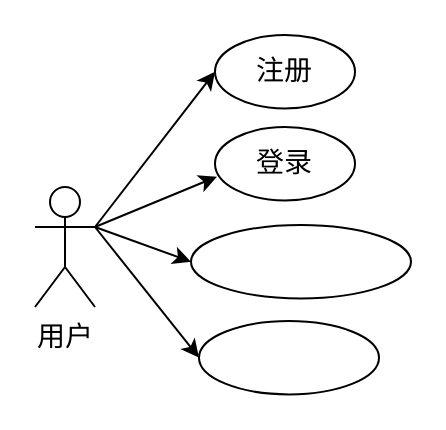
Some shapes in this 446 by 430 pixel diagram are drawn without their labels. Here are the shapes that lost their labels. From the top down, the centre of each, then its label:
At pixel 300 260: "编辑个人信息".
At pixel 288 356: "退出登录".
